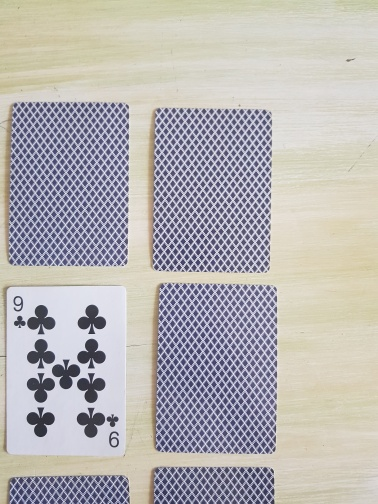nine: (5, 284, 127, 457)
